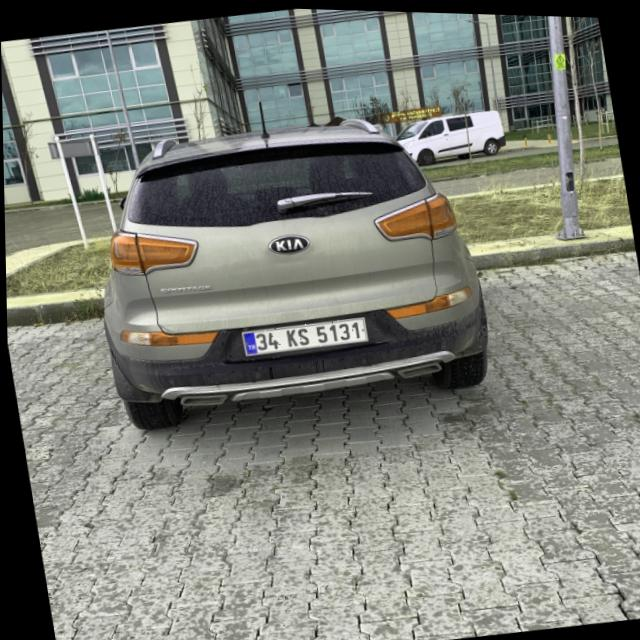license_plate: (240, 312, 367, 356)
